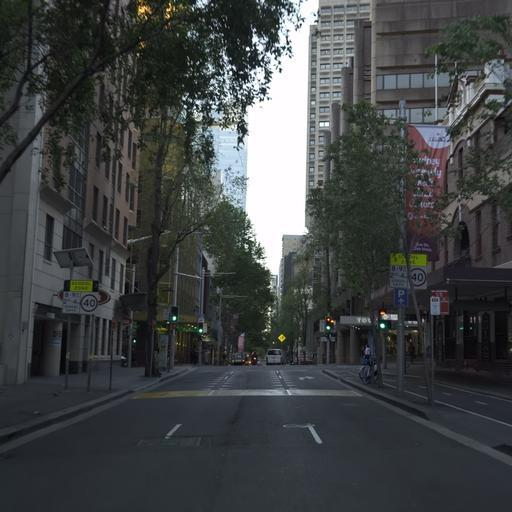Street light: (168, 216, 240, 371), (123, 228, 171, 367), (52, 246, 93, 389), (196, 269, 236, 365), (377, 307, 388, 330), (324, 316, 334, 333), (169, 305, 178, 322)
